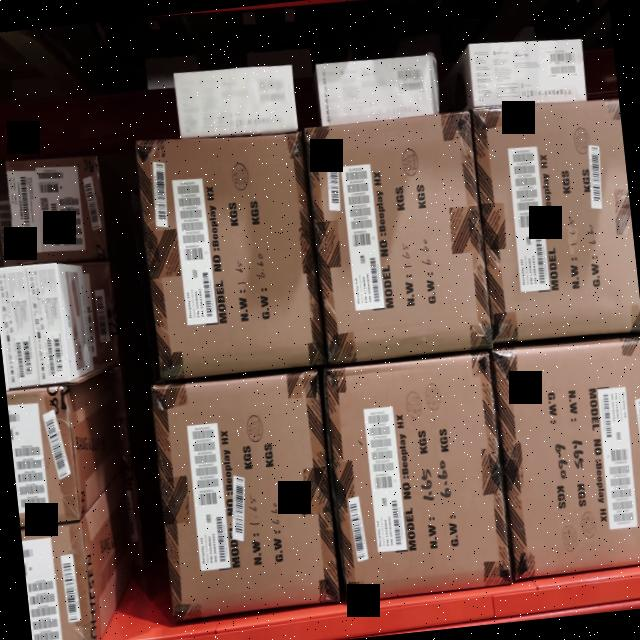box: (134, 122, 323, 385), (323, 352, 512, 602), (148, 369, 339, 616), (305, 115, 489, 368)
